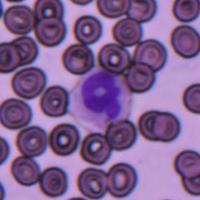N: (70, 70, 132, 126)
